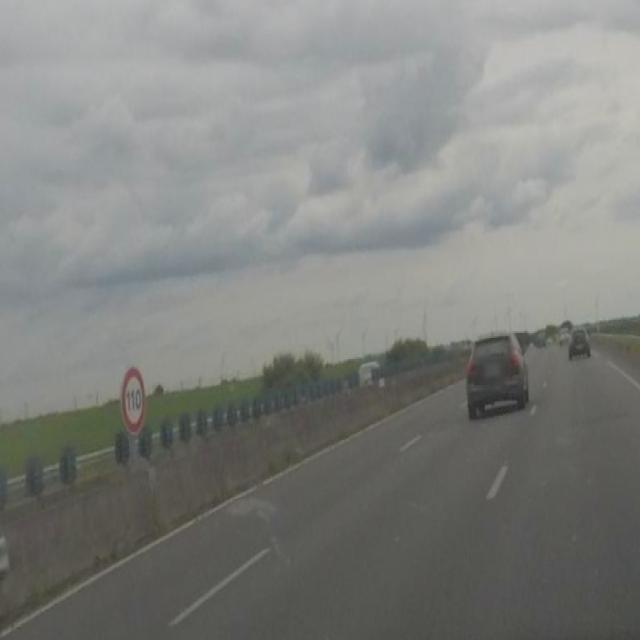speed_110: (122, 366, 146, 430)
